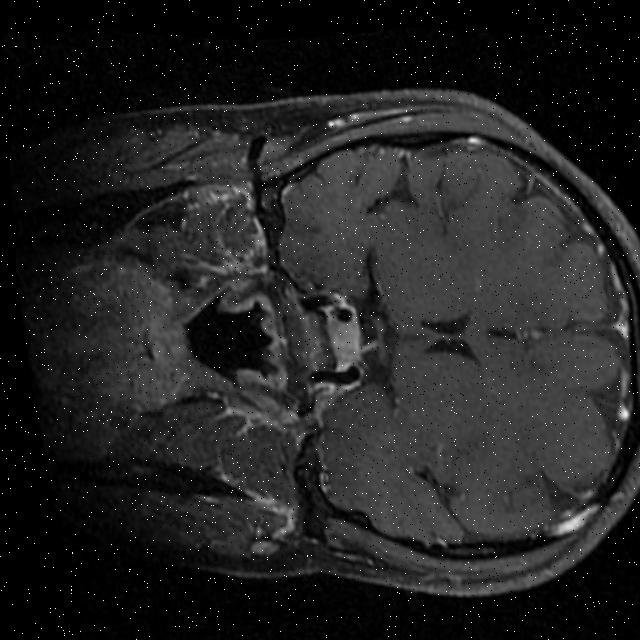Pituitary: (284, 311, 368, 379)
